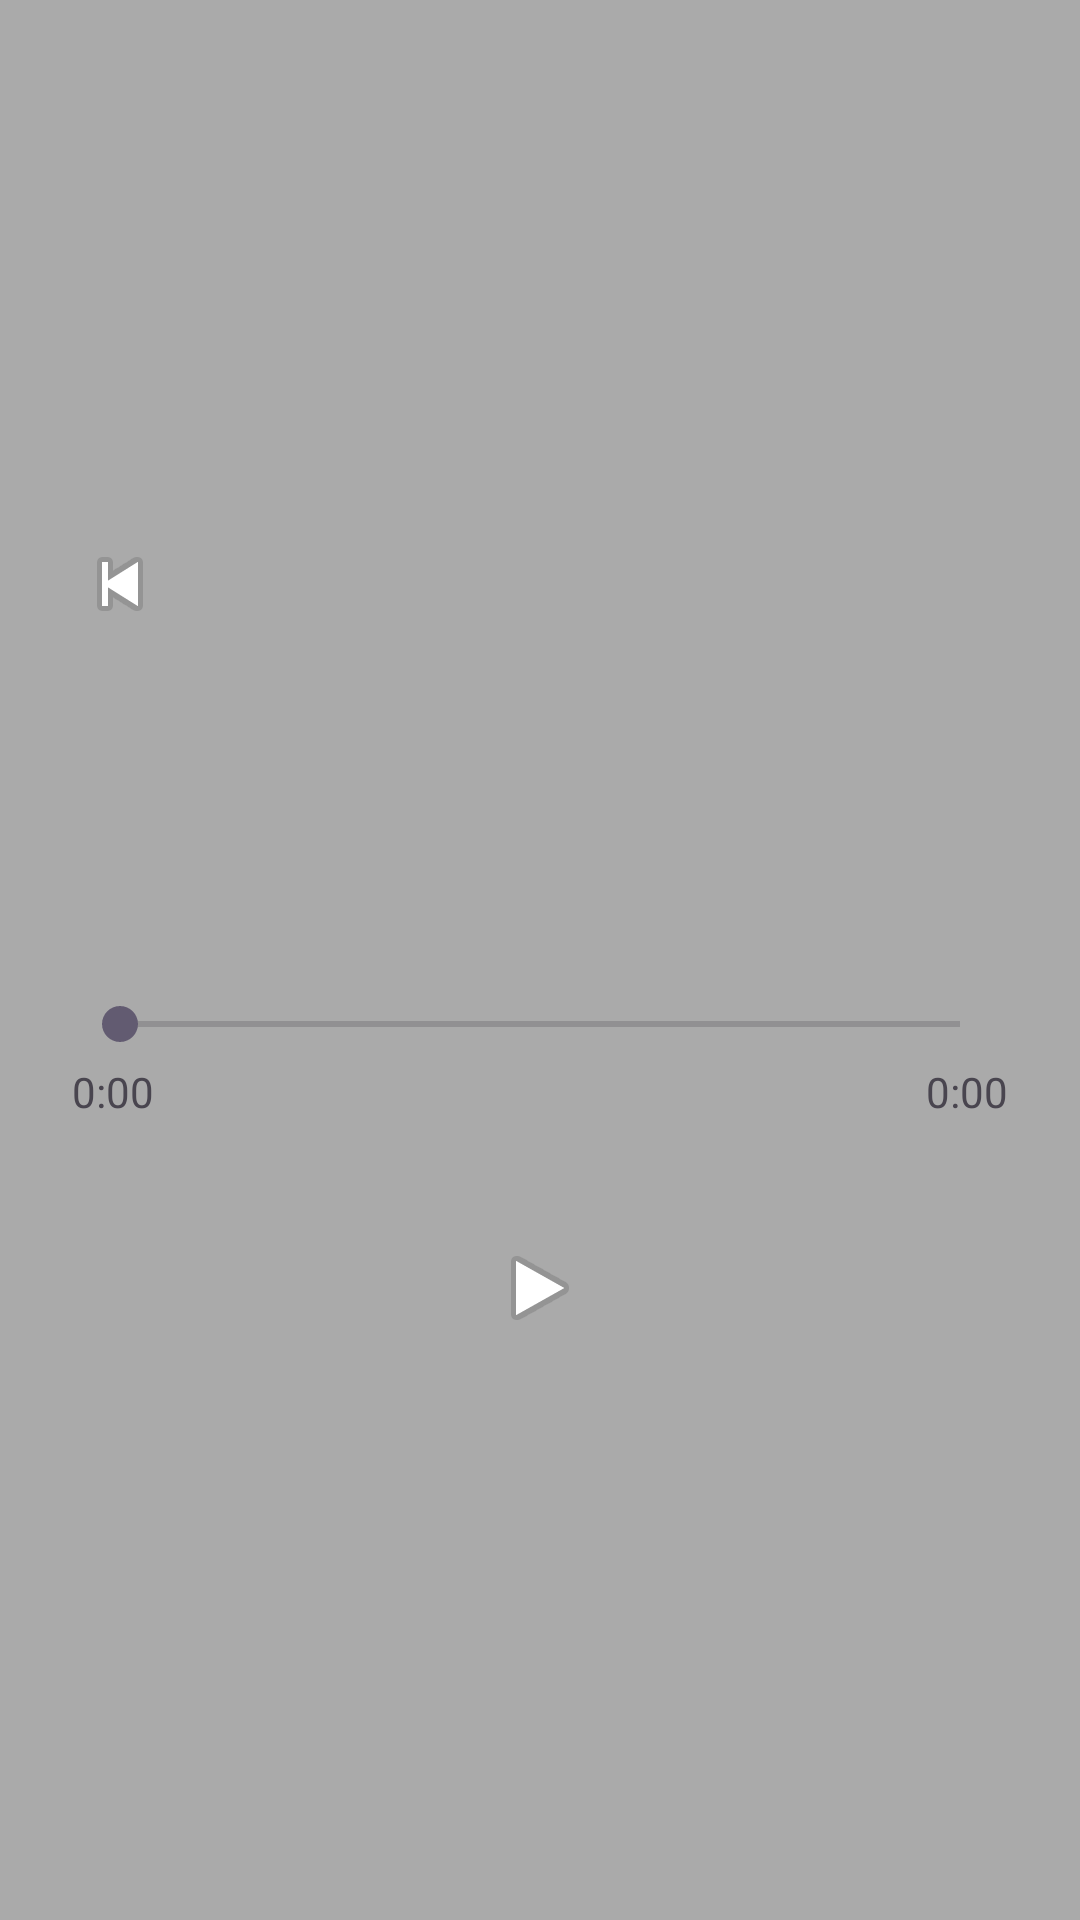

Icon bounding boxes for this 1080 × 1920 phone screenshot, format rect(x1, y1, x2, y2):
play: rect(516, 1261, 564, 1315)
previous: rect(102, 562, 138, 606)
